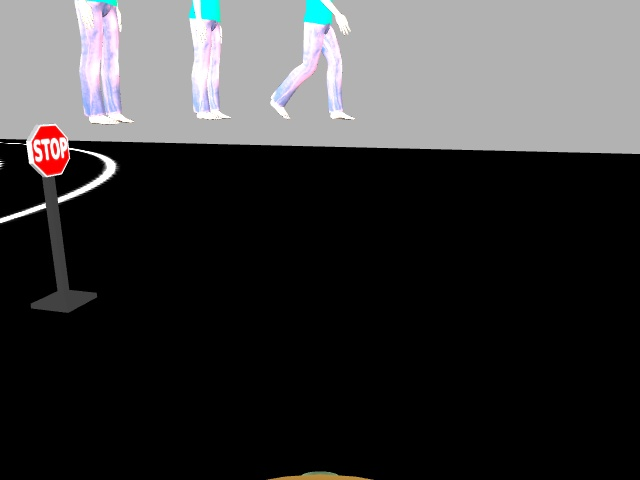Stop: (23, 122, 69, 177)
